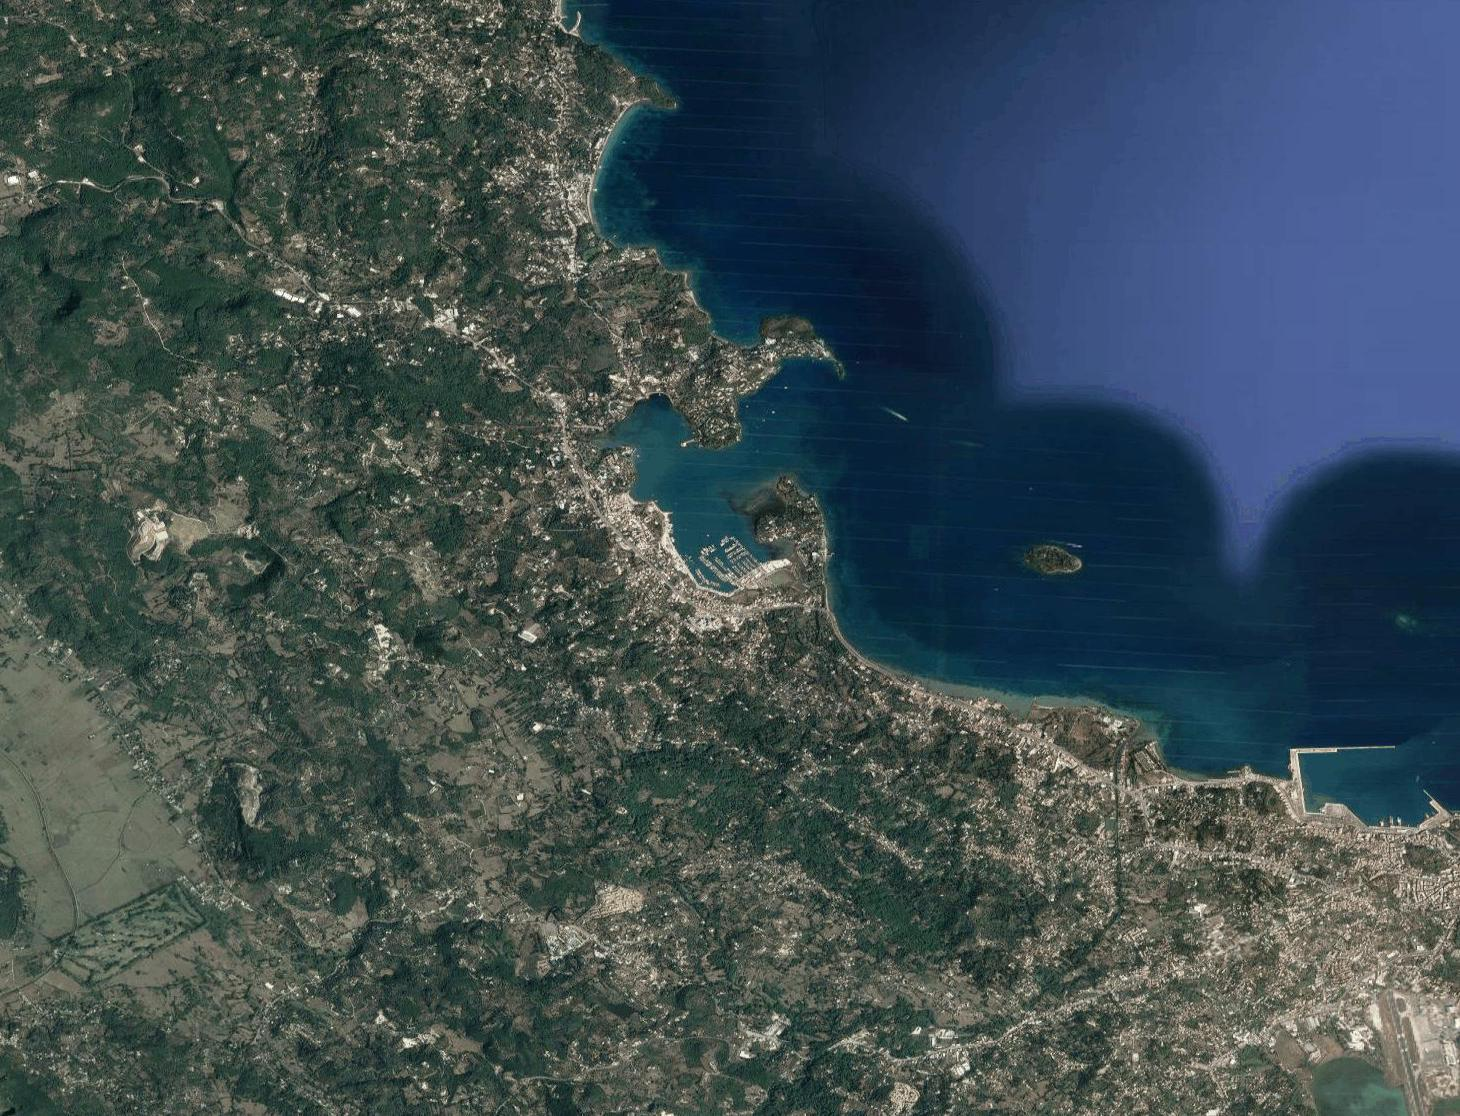harbor: (1284, 723, 1446, 836), (677, 512, 792, 591)
